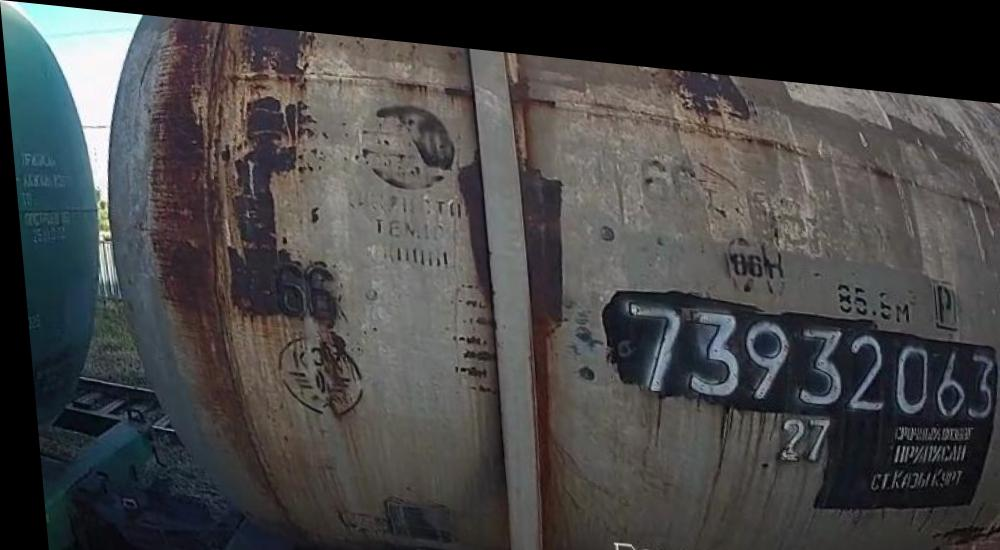Wagon-number: (617, 283, 998, 413)
